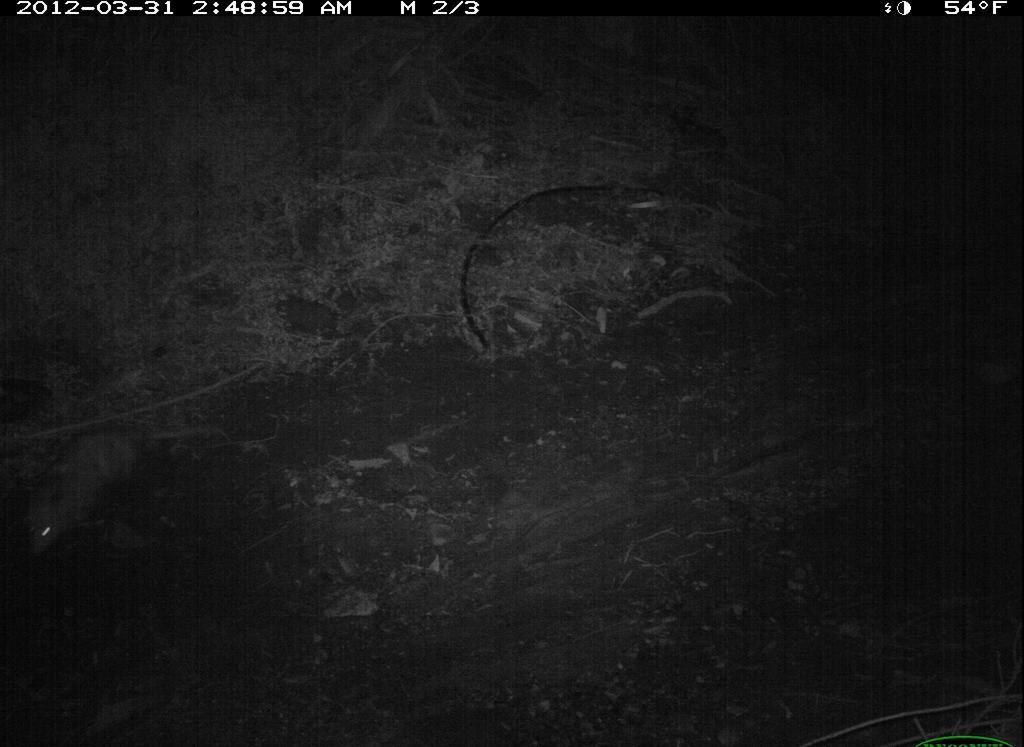opossum: (8, 420, 208, 564)
